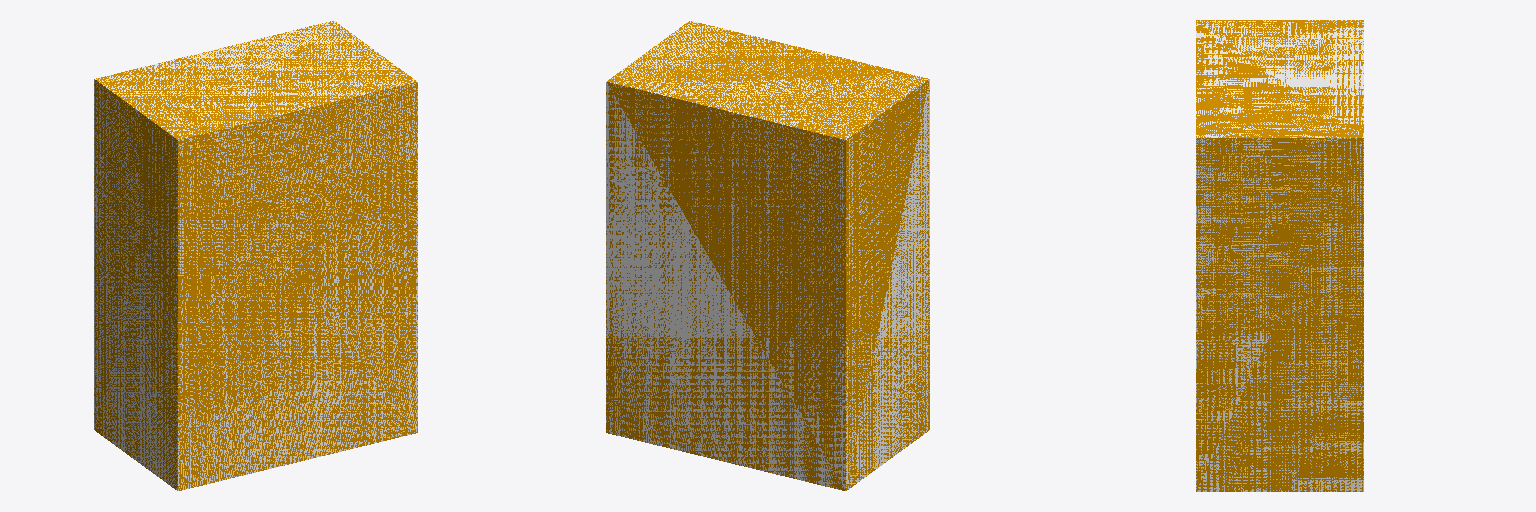
The robot description file, URDF, robot "my_object":
<?xml version="1.0" ?> 
<robot name="my_object" static="true">
  <link name="base_link">
  <inertial>
    <mass value="1.964" />
    <origin xyz="0 0 0.0"/>
    <inertia ixx="1.0" ixy="0.0" ixz="0.0" iyy="1.0" iyz="0.0" izz="1.0"/>
  </inertial>
  <visual>
   <origin xyz="0 0 0.0" rpy="0 0 -1.570796" />
   <geometry>
     <mesh filename="package://cob_gazebo_objects/Media/models/book_set_buecherschau.dae"/>
   </geometry>
  </visual>
  <collision>
   <origin xyz="0 0 0" rpy="0 0 0" />
   <geometry>
     <box size="0.15 0.09 0.21" />
   </geometry>
  </collision>     
  </link>

<gazebo>
	<static>true</static>
</gazebo>
</robot>

--- Render facts (derived) ---
The picture shows the robot from 3 angles, left to right: view 1: azimuth 30°, elevation 25°; view 2: azimuth 150°, elevation 25°; view 3: azimuth 270°, elevation 25°; orthographic projection.
Robot: my_object — 1 links, 0 joints (none); root link base_link; default pose: every joint at zero.
Links seen in each view (by area): view 1: base_link; view 2: base_link; view 3: base_link.
Link boxes in pixels (x1,y1,x2,y2): base_link: (94, 21, 417, 490); base_link: (606, 21, 929, 490); base_link: (1196, 20, 1363, 491).
Bounding box of the posed robot: 0.1495 × 0.0903 × 0.2096 m (x, y, z).
Meshes: 1 distinct files referenced, 1 mesh visuals loaded (1 Collada DAE).